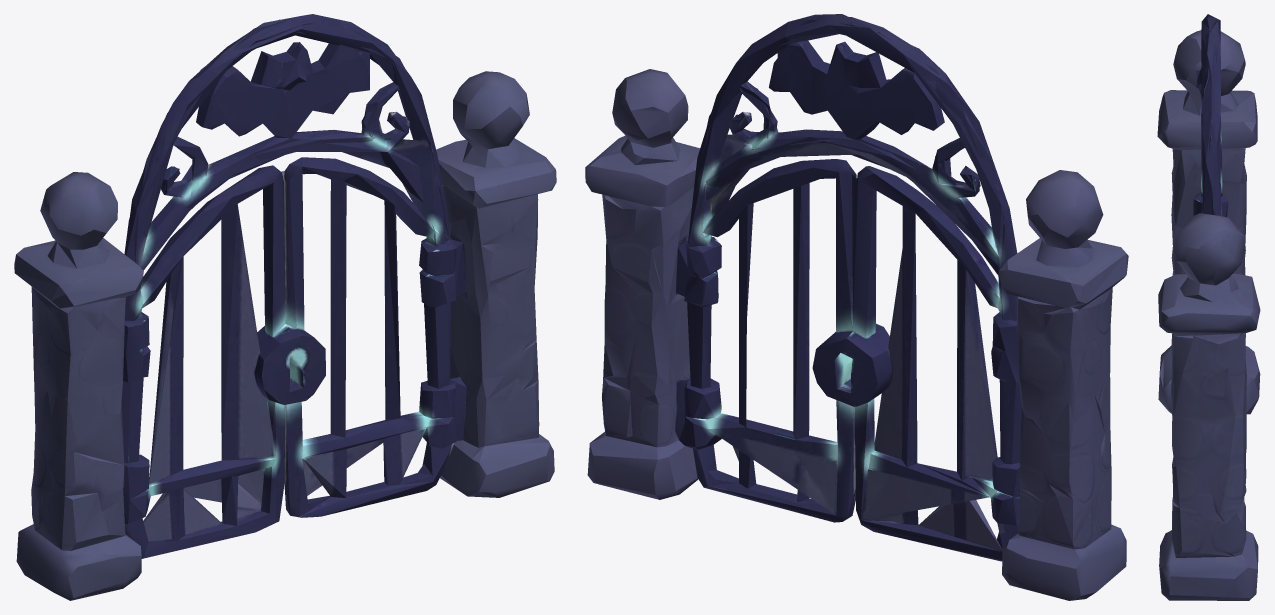
Rendered from iron_gate.glb.
3 views of the same model, side by side, from view 1: azimuth 30°, elevation 25°; view 2: azimuth 150°, elevation 25°; view 3: azimuth 270°, elevation 25° (orthographic). The views are drawn at different scales.
Size of the model in its own units: 1.9 by 1.83 by 0.3651.
1 material, 1 textured.
